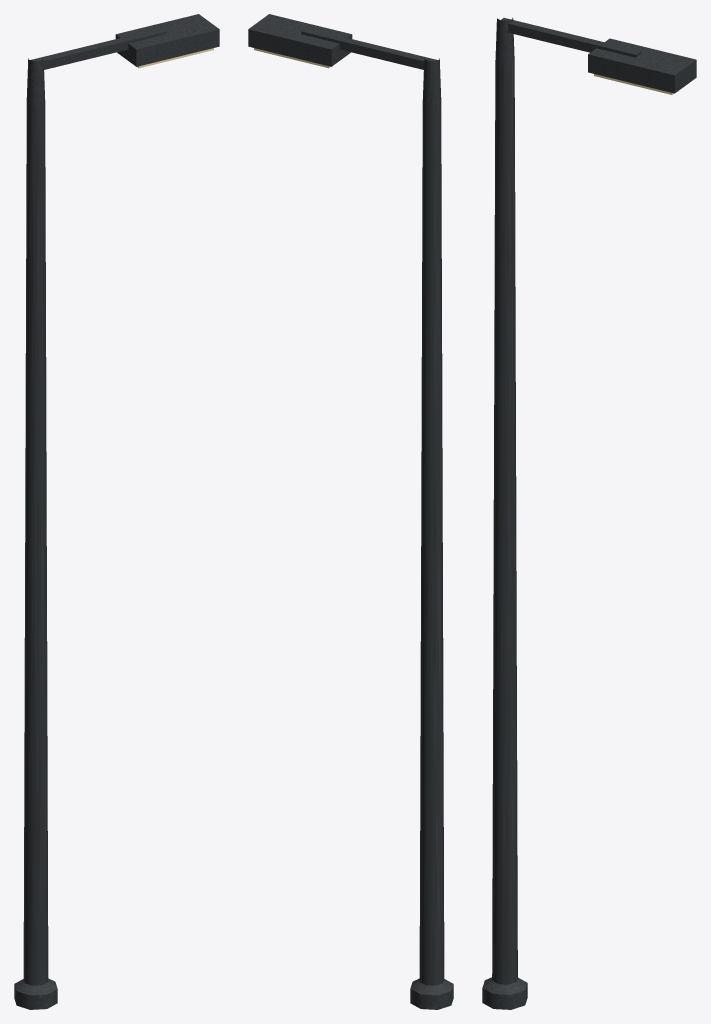
The model's file is leuchte_m1.glb.
3 views of the same model, side by side, from view 1: azimuth 30°, elevation 25°; view 2: azimuth 150°, elevation 25°; view 3: azimuth 330°, elevation 25° (orthographic). The views are drawn at different scales.
Parts seen in each view (by area): view 1: M1; view 2: M1; view 3: M1.
Part boxes in pixels (x1,y1,x2,y2): M1: (14,14,219,1009); M1: (248,14,453,1009); M1: (482,17,696,1009).
Size of the model in its own units: 1.39 by 6.5 by 0.28.
Materials: 1 (1 with a texture image).
